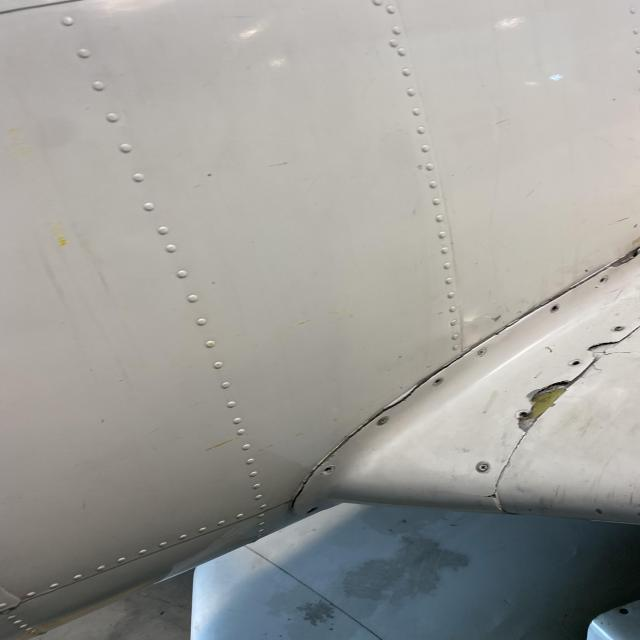Crack: (316, 406, 386, 464), (512, 377, 576, 435), (272, 451, 314, 520), (380, 376, 433, 414), (605, 244, 640, 270), (472, 482, 514, 503), (581, 338, 623, 356)
Missing_Fastener: (548, 304, 565, 316), (568, 357, 584, 369), (321, 466, 336, 478), (305, 503, 320, 515), (432, 376, 444, 388), (598, 274, 610, 286)
